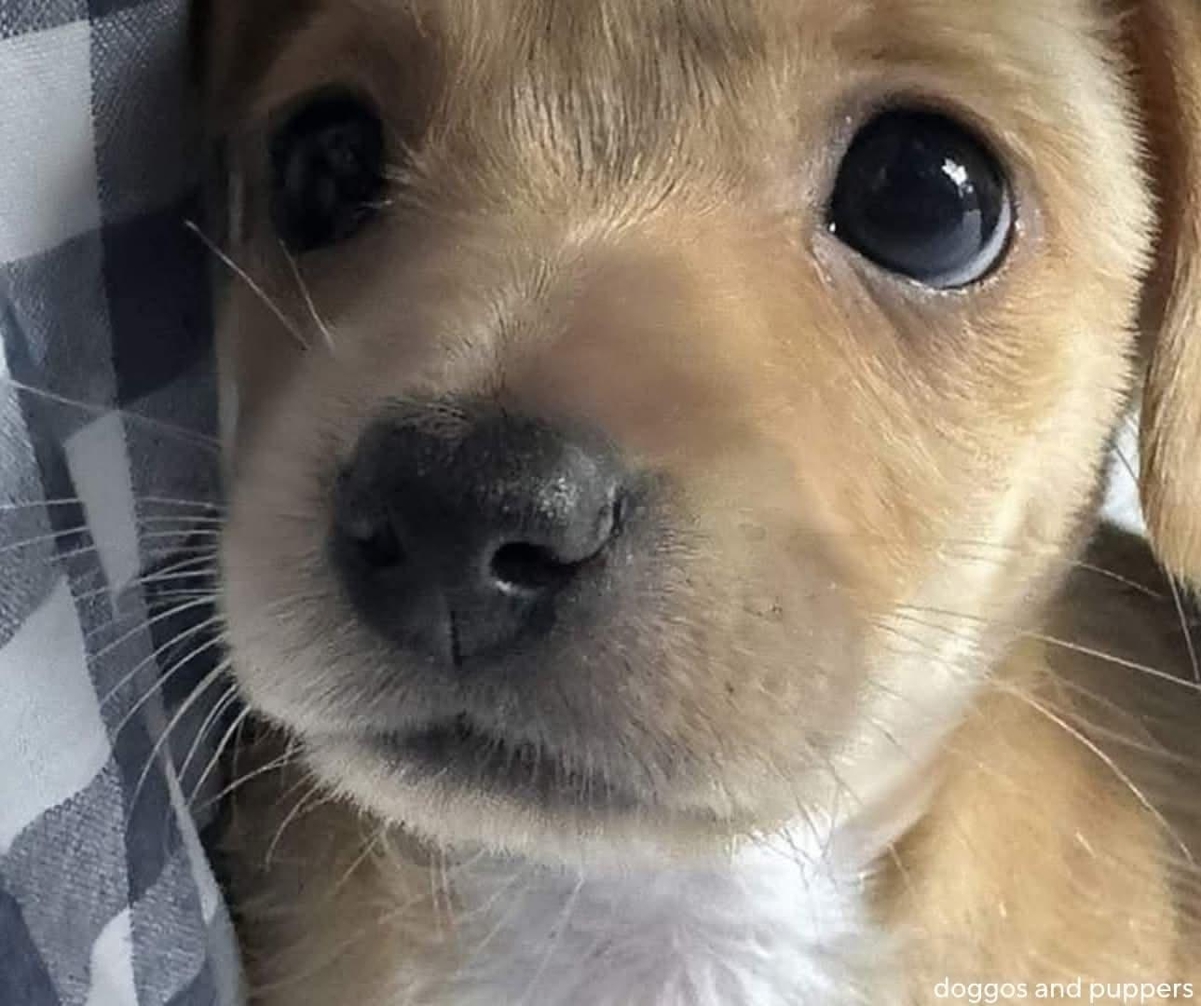puppy-dog: (179, 1, 1201, 1006)
